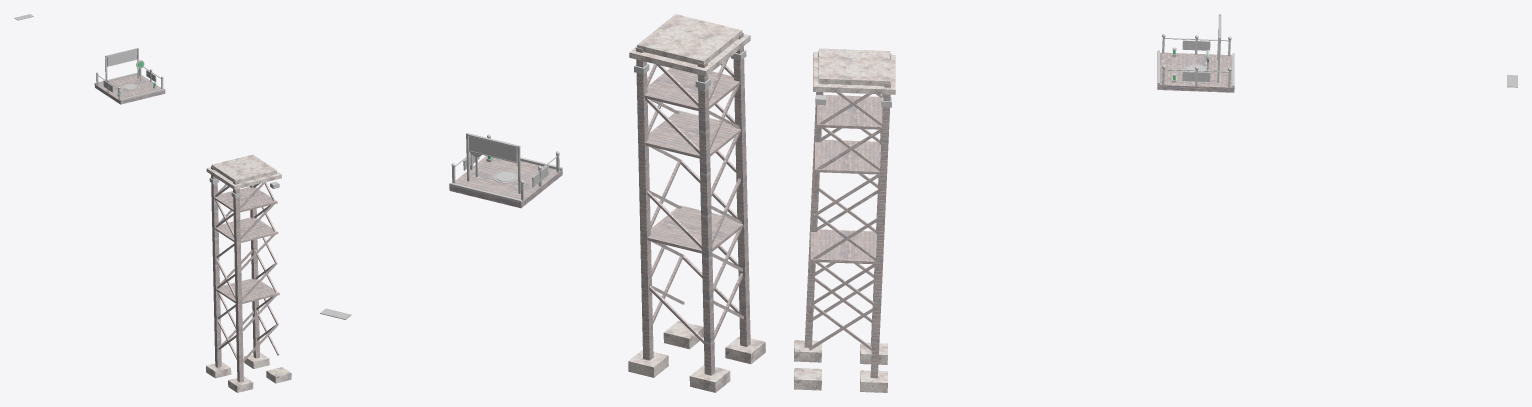
The model's file is HighwireHorizon_07.obj.
The picture shows the model from 3 angles, left to right: view 1: azimuth 30°, elevation 25°; view 2: azimuth 150°, elevation 25°; view 3: azimuth 270°, elevation 25°; orthographic projection. The views are drawn at different scales.
Visible parts, largest first — view 1: Box0057, Box0028, Box0206, Box00113, Box0186, Box0176, Box0156, Box0087, Box0196, Box0107, Box0214, Box00111 (+2 smaller); view 2: Box0028, Box0206, Box0087, Box0057, Box00113, Box0156, Box0176, Box0186, Box0196, Box0107, Box00111, Box0047 (+2 smaller); view 3: Box0206, Box0087, Box00113, Box0176, Box0156, Box0186, Box0057, Box0196, Box0107.
Part boxes in pixels (x1,y1,x2,y2): Box0057: (233, 180, 243, 382); Box0028: (211, 166, 221, 367); Box0206: (211, 154, 276, 182); Box00113: (94, 75, 165, 104); Box0186: (214, 187, 277, 212); Box0176: (215, 217, 278, 242); Box0156: (216, 278, 279, 303); Box0087: (249, 185, 259, 358); Box0196: (206, 167, 281, 189); Box0107: (266, 367, 291, 383); Box0214: (107, 49, 137, 65); Box00111: (206, 362, 231, 378); Box0028: (697, 61, 715, 375); Box0206: (637, 14, 742, 64); Box0087: (636, 47, 653, 360); Box0057: (733, 32, 750, 346); Box00113: (449, 156, 562, 208); Box0156: (647, 205, 743, 253); Box0176: (645, 110, 740, 158); Box0186: (644, 68, 739, 110); Box0196: (629, 34, 750, 76); Box0107: (663, 320, 703, 349); Box00111: (689, 365, 730, 392); Box0047: (725, 336, 765, 364); Box0206: (818, 48, 890, 85); Box0087: (870, 81, 891, 378); Box00113: (1157, 52, 1234, 92); Box0176: (814, 139, 880, 174); Box0156: (810, 229, 876, 264); Box0186: (816, 95, 882, 129); Box0057: (804, 50, 823, 347); Box0196: (813, 52, 895, 94); Box0107: (794, 368, 821, 390).
Bounding box in the file's own units: 17 × 69.59 × 131.
8 materials, 7 textured.
